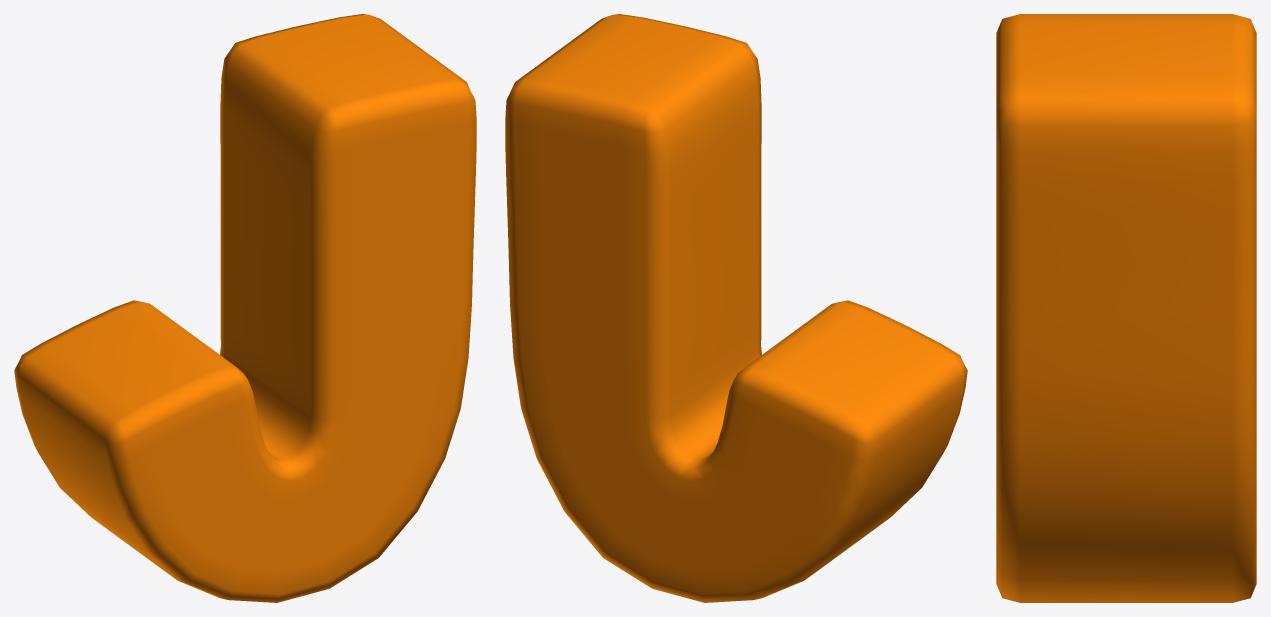
3 renders of one model, left to right at view 1: azimuth 30°, elevation 25°; view 2: azimuth 150°, elevation 25°; view 3: azimuth 270°, elevation 25°, orthographic. The views are drawn at different scales.
Visible parts, largest first — view 1: LETTER_J; view 2: LETTER_J; view 3: LETTER_J.
Boxes of the visible parts, x1,y1,x2,y2 form: LETTER_J: (14, 14, 476, 602); LETTER_J: (505, 14, 967, 602); LETTER_J: (996, 14, 1256, 602).
Size of the model in its own units: 0.8007 by 1 by 0.3998.
